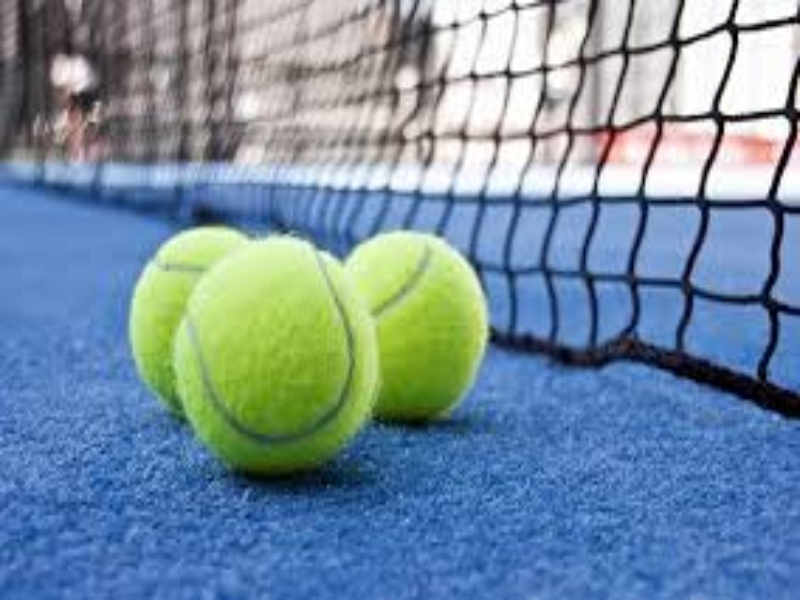tennis ball: (168, 234, 385, 474), (347, 222, 487, 440), (127, 214, 218, 422)
